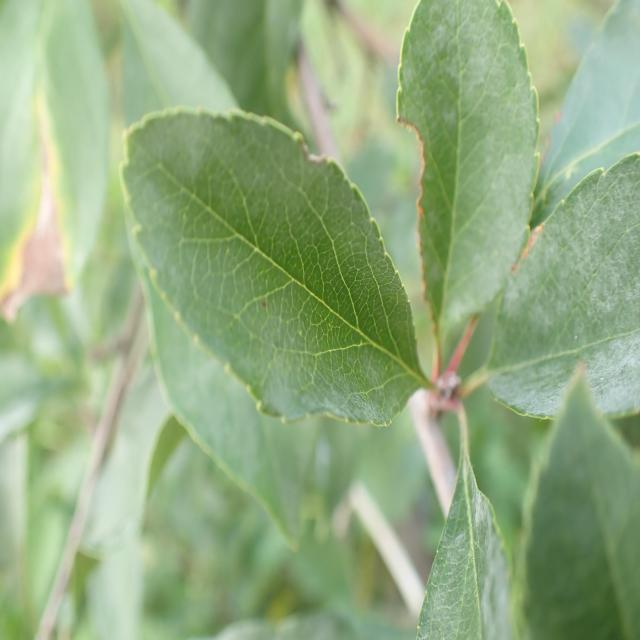Powdery_mildew: (118, 82, 420, 441), (382, 0, 544, 416), (415, 155, 640, 443), (390, 386, 534, 640)
